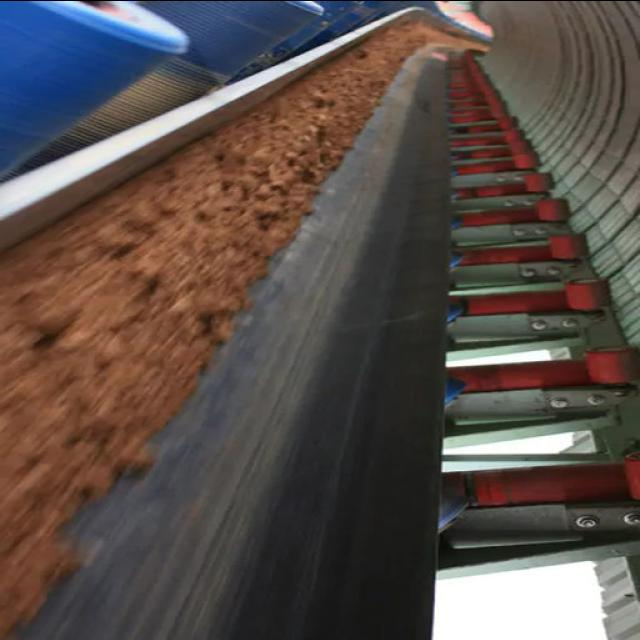conveyor: (0, 7, 498, 640)
